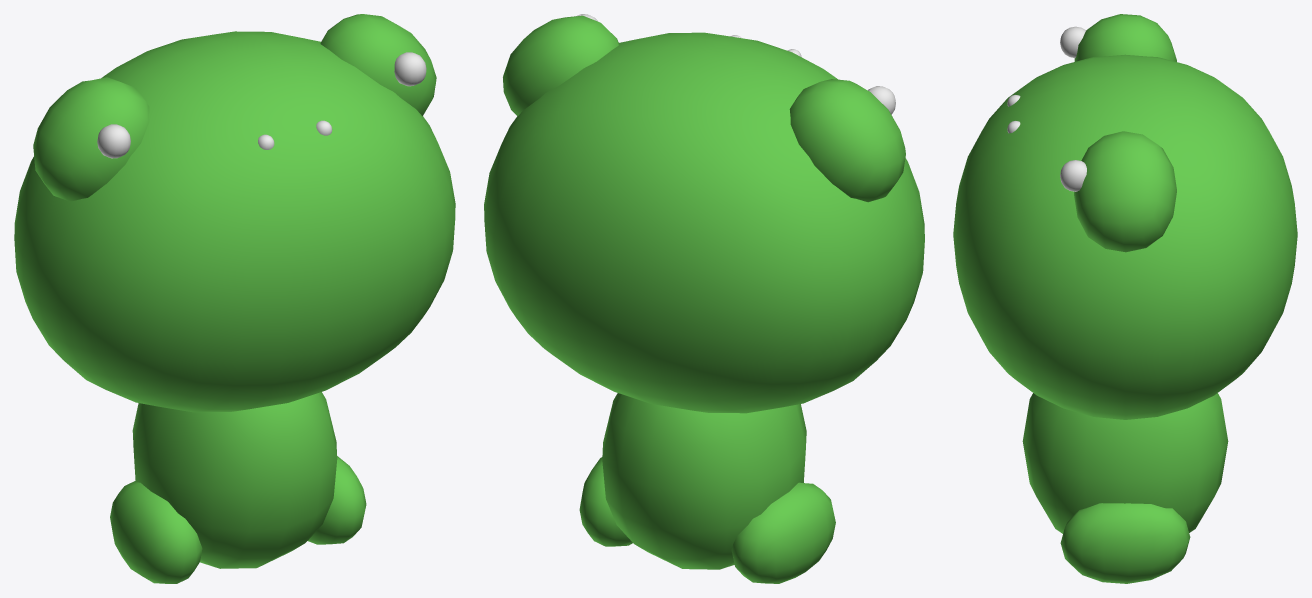
The model's file is plush_frog01.fbx.
The picture shows the model from 3 angles, left to right: view 1: azimuth 30°, elevation 25°; view 2: azimuth 150°, elevation 25°; view 3: azimuth 270°, elevation 25°; orthographic projection. The views are drawn at different scales.
Parts seen in each view (by area): view 1: frog; view 2: frog; view 3: frog.
Boxes of the visible parts, x1,y1,x2,y2 form: frog: (14, 14, 455, 583); frog: (484, 14, 924, 583); frog: (953, 14, 1297, 583).
Size of the model in its own units: 27.61 by 34.05 by 22.58.
